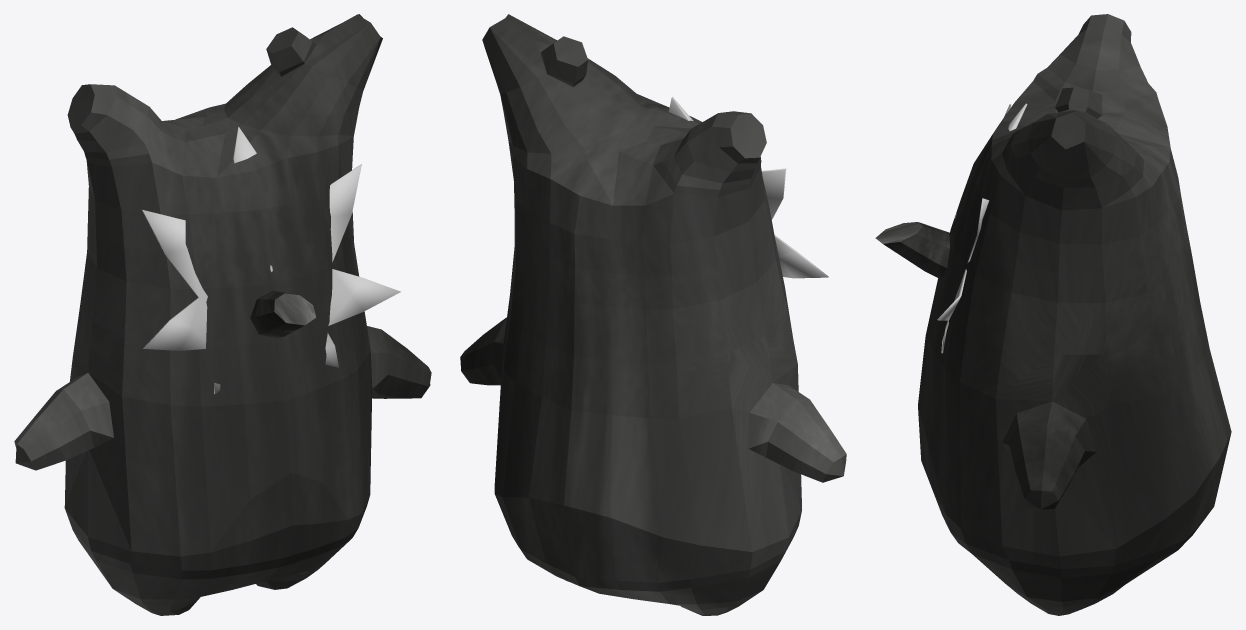
Rendered from frame_0091.obj.
3 renders of one model, left to right at view 1: azimuth 30°, elevation 25°; view 2: azimuth 150°, elevation 25°; view 3: azimuth 270°, elevation 25°, orthographic.
Parts seen in each view (by area): view 1: korok, leaf, nose; view 2: korok, leaf; view 3: korok, nose, leaf.
Boxes of the visible parts, x1,y1,x2,y2 form: korok: (14,14,431,615); leaf: (142,126,400,394); nose: (250,290,316,338); korok: (460,14,846,615); leaf: (668,97,828,278); korok: (918,14,1231,615); nose: (875,222,949,279); leaf: (937,103,1027,353).
Bounding box in the file's own units: 1.68 × 2.22 × 1.32.
